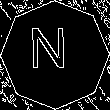N_S: (35, 30, 75, 80)
